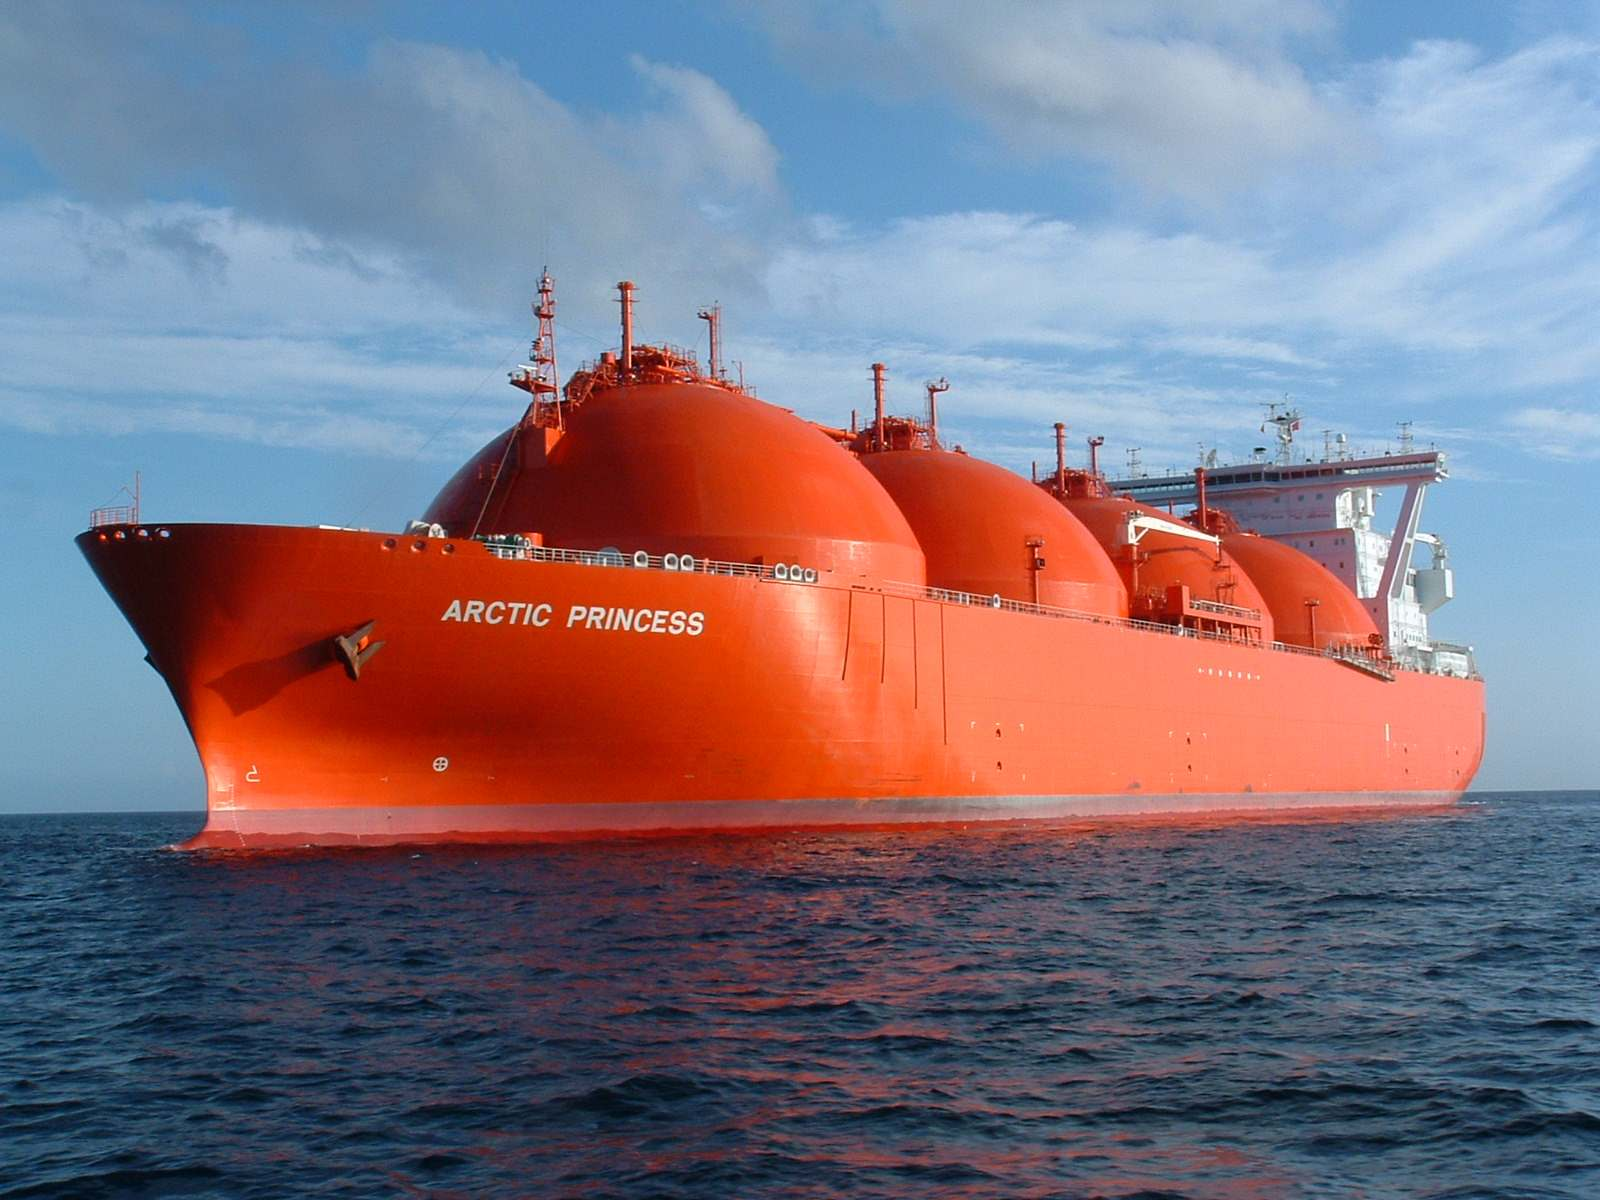Cargoship: (66, 253, 1495, 858)
